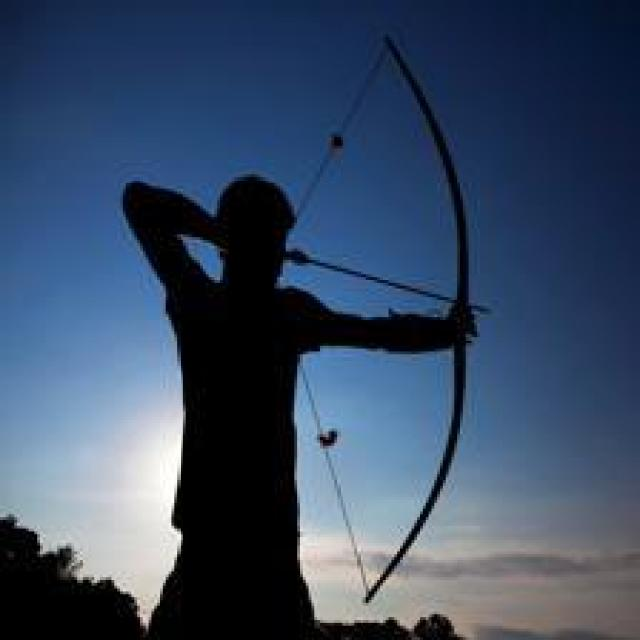X-Bow: (287, 21, 516, 624)
